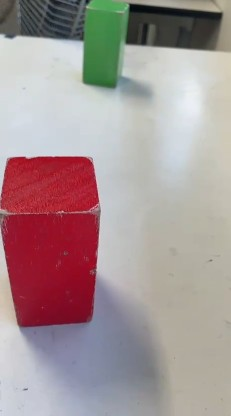red: (7, 157, 109, 327)
